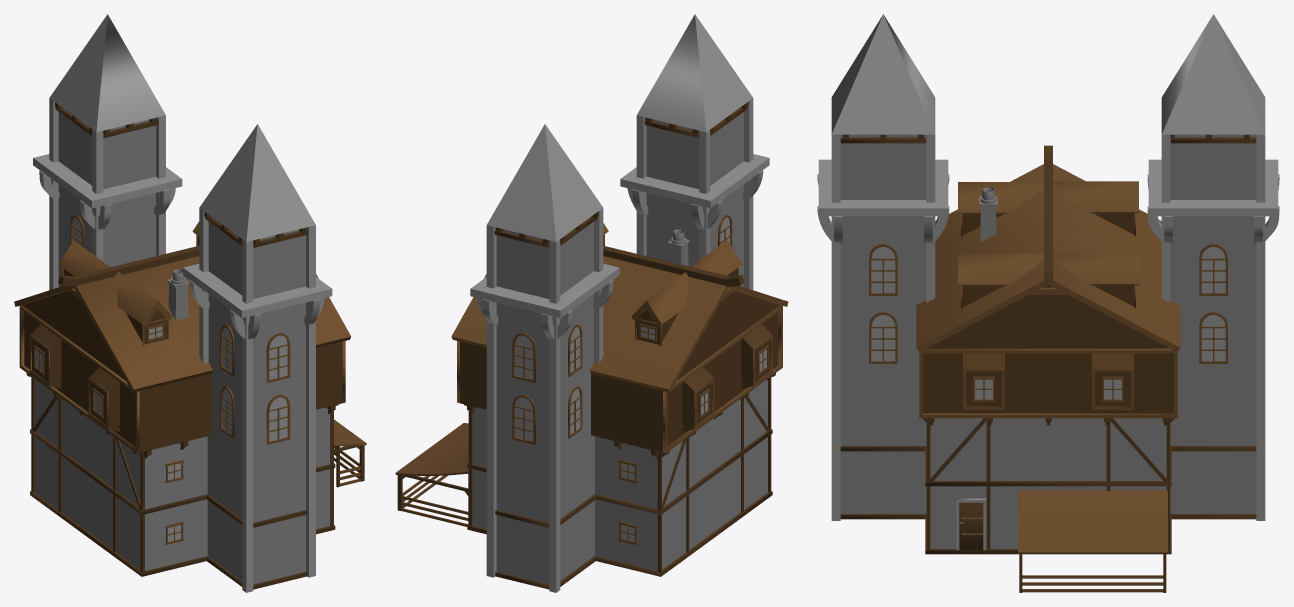
File: Medieval Houses.glb
The picture shows the model from 3 angles, left to right: view 1: azimuth 30°, elevation 25°; view 2: azimuth 150°, elevation 25°; view 3: azimuth 270°, elevation 25°; orthographic projection. The views are drawn at different scales.
Parts seen in each view (by area): view 1: Root; view 2: Root; view 3: Root.
Boxes of the visible parts, box(x1,y1,x2,y2) form: Root: box(14, 14, 366, 592); Root: box(395, 14, 788, 592); Root: box(817, 14, 1279, 592).
Bounding box in the file's own units: 12.41 × 17.95 × 15.4.
